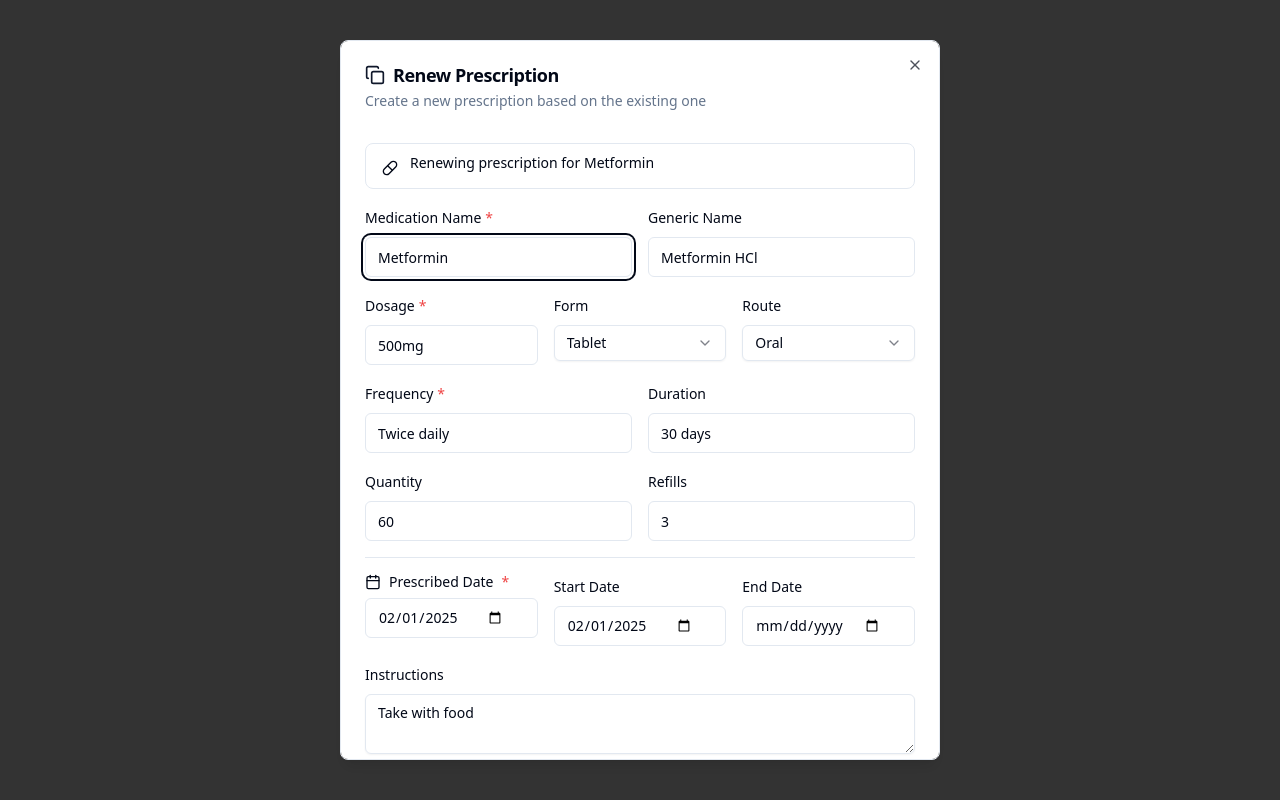
Scenario: RenewDialog › Form Validation › disables confirm when frequency is empty
Clear the field showing "Twice daily" at {"x": 498, "y": 433}, box top-left (365, 413), bottom-right (632, 453)
(page scrolled)
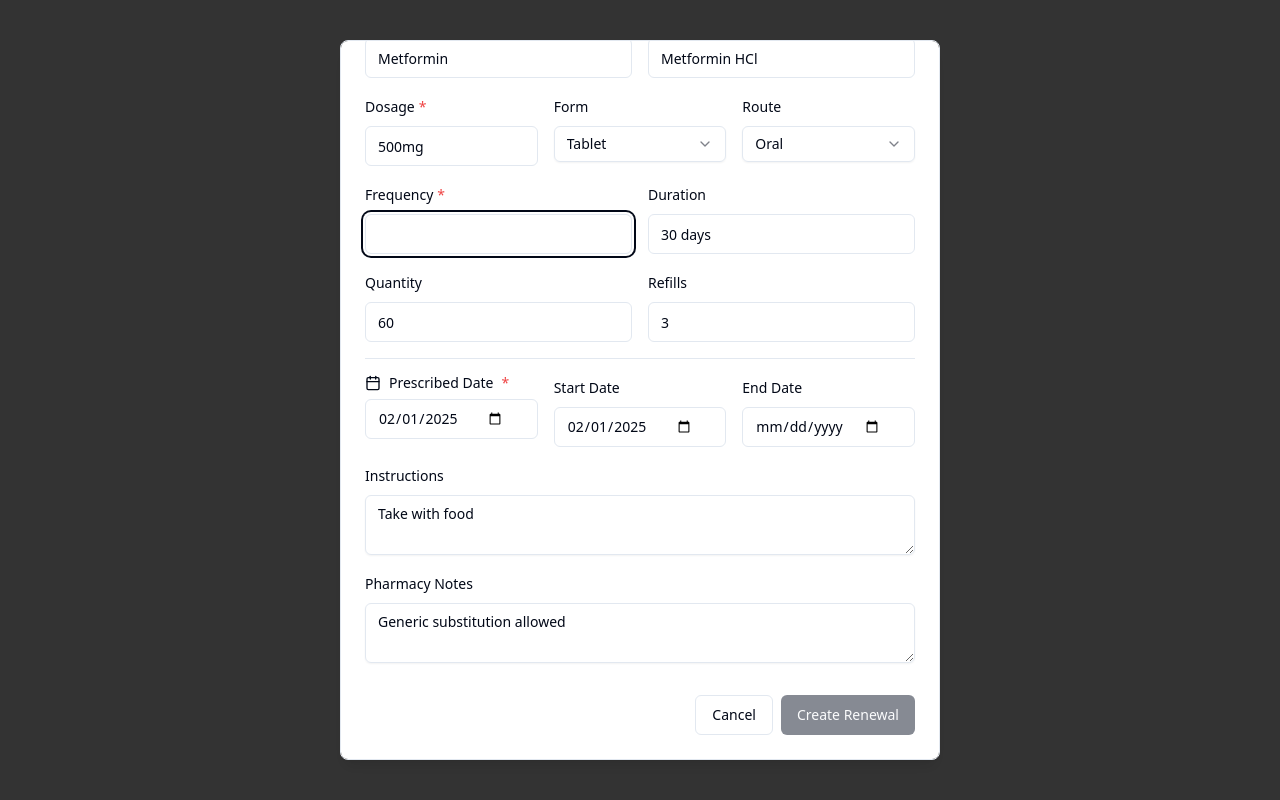
Expected: the button "Create Renewal" is disabled, top-left (781, 695), bottom-right (915, 735)
